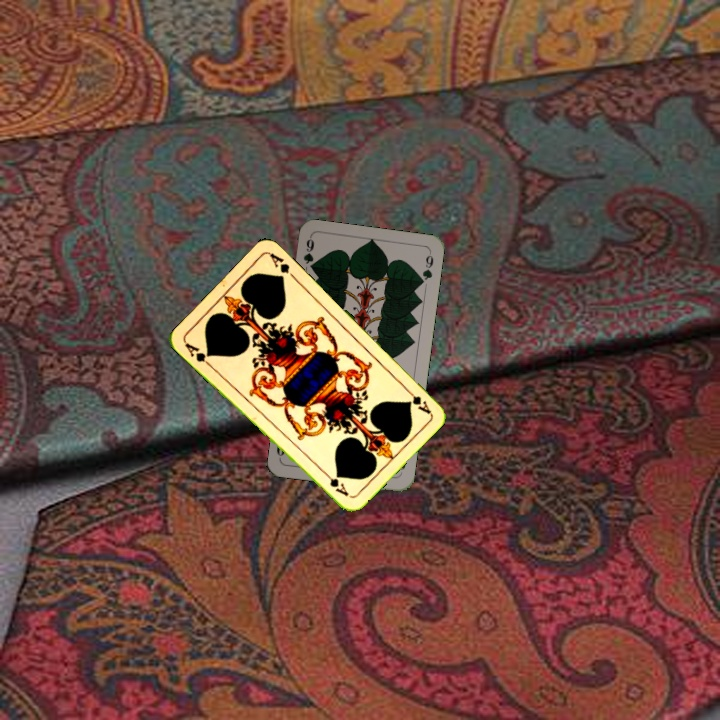G9: (299, 233, 317, 273)
GA: (180, 338, 215, 370), (400, 383, 433, 416)
